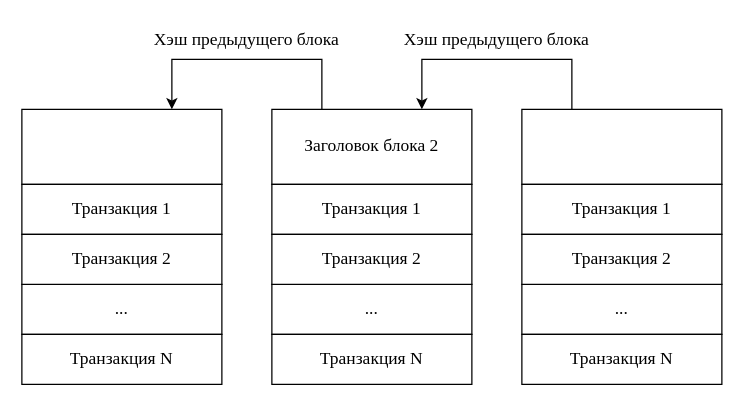
Some shapes in this 744 by 406 pixel diagram are drawn without their labels. The centre of each missing label's shape, as x and y in pixels:
Заголовок блока 1: the point at 121,146
Заголовок блока 3: the point at 621,146
